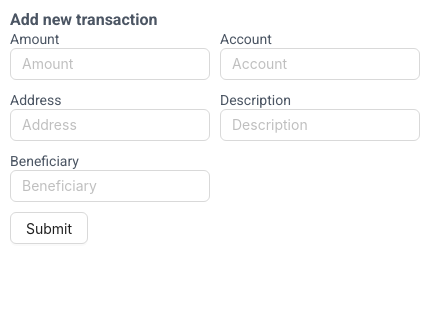
it: Form Component › shows error when amount is negative
Type "-50" into the number field labelled "Amount" at (110, 64), box [10,48,210,80]
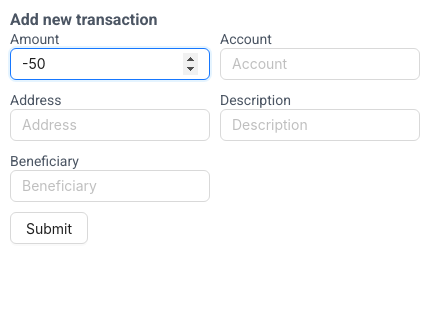
Click the button "Submit" at (49, 228), box [10,212,88,244]
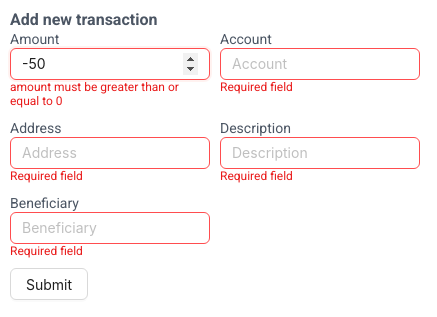
expect the text "amount must be greater than or equal to 0" is shown: met, box [10,80,179,108]
